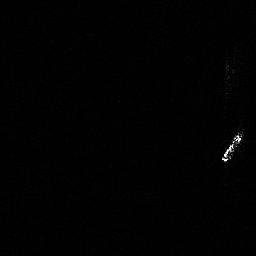ship: (217, 128, 245, 163)
